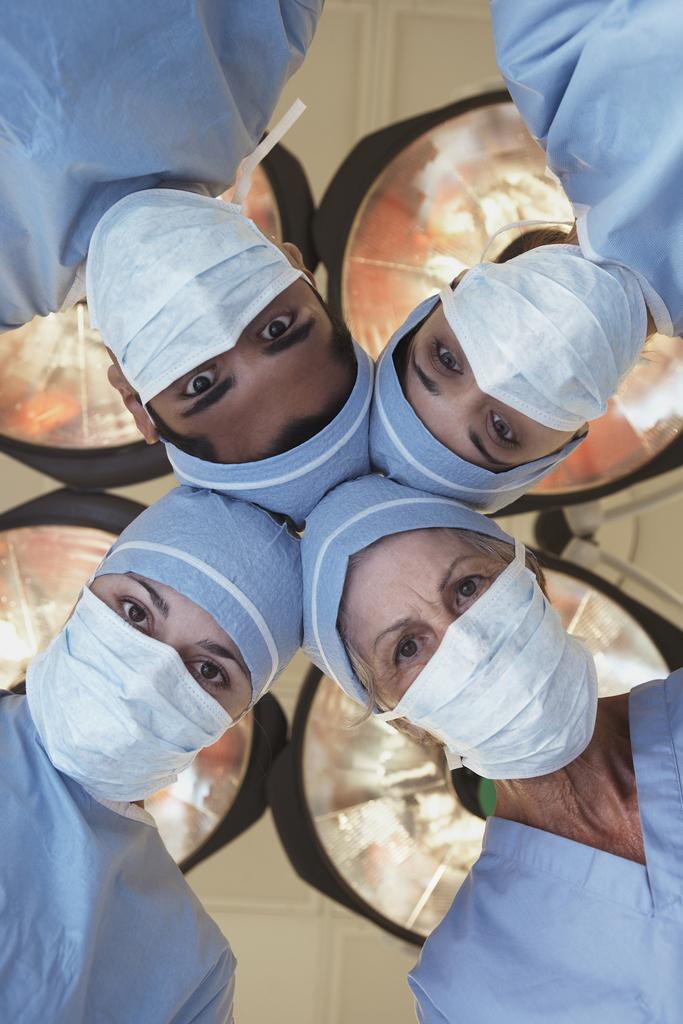OK: (97, 191, 359, 474), (339, 526, 596, 783), (31, 557, 271, 797), (392, 261, 651, 481)
